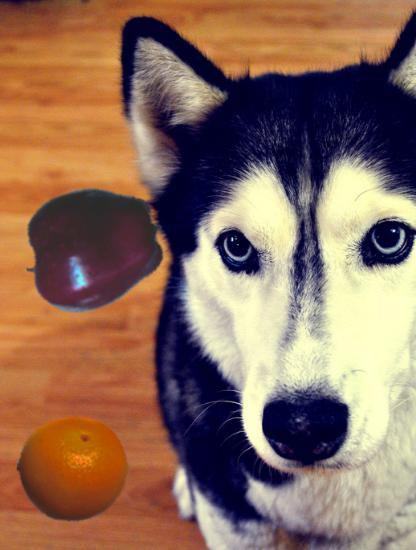Apple: (21, 176, 164, 319)
Grapefruit: (17, 414, 129, 526)
